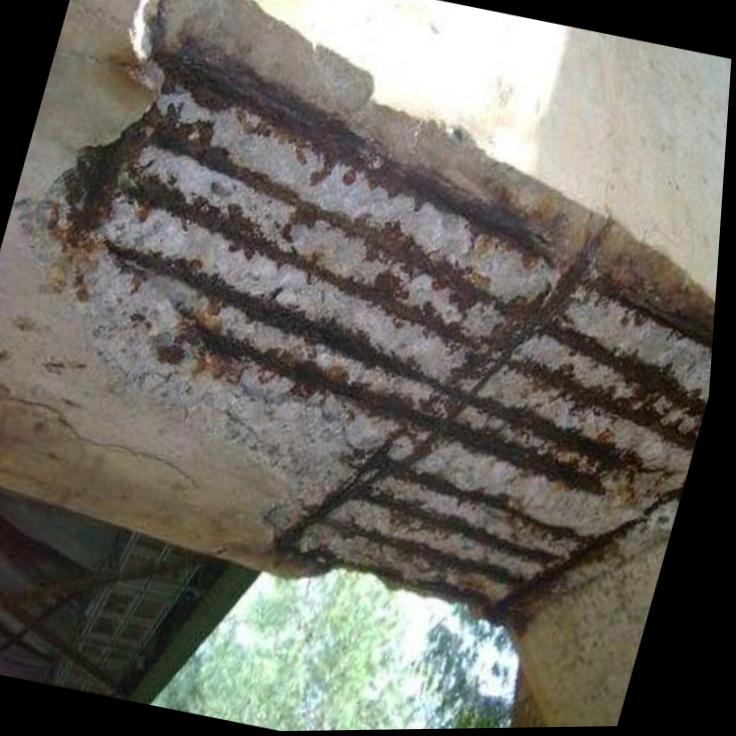crack: (2, 395, 209, 493)
damage: (24, 0, 720, 631)
